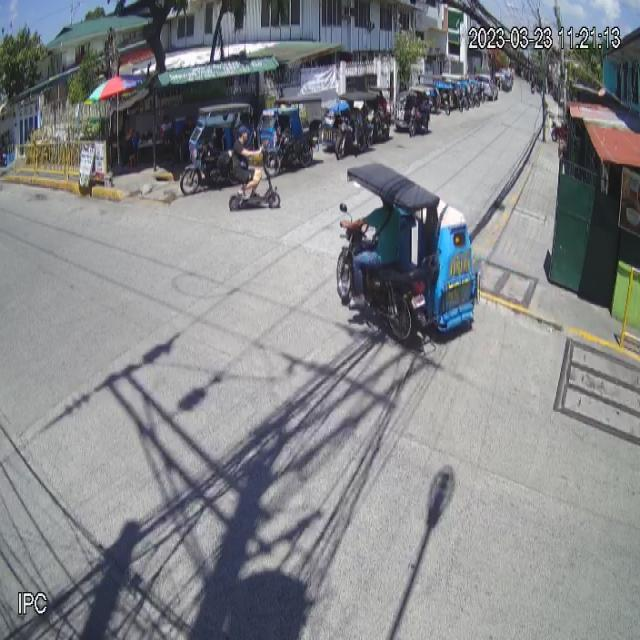Tricycle: (335, 161, 482, 356)
